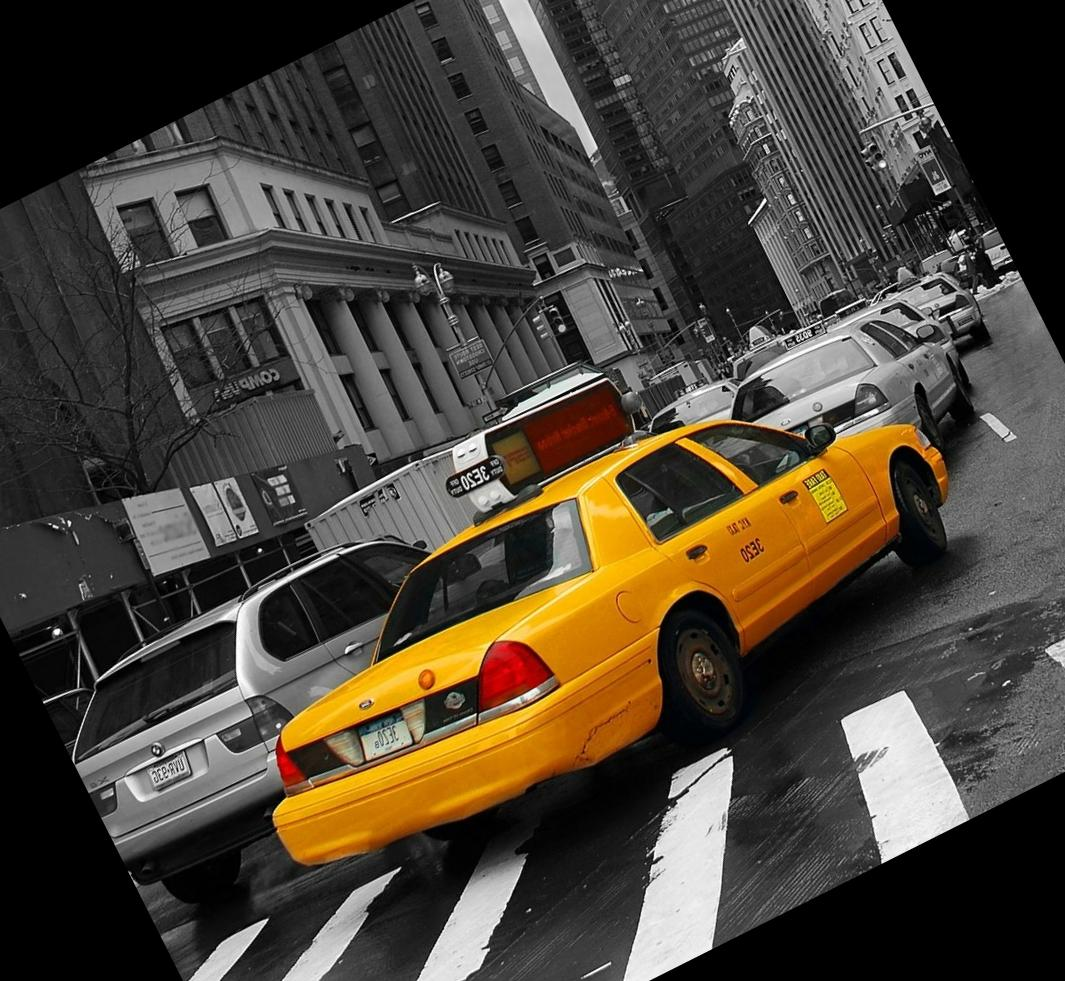taxi: (278, 400, 964, 891)
